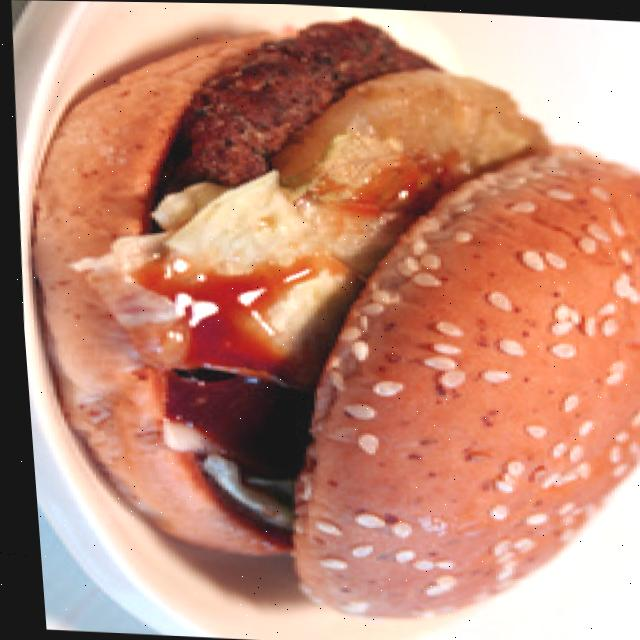汉堡快餐: (5, 0, 640, 638)
